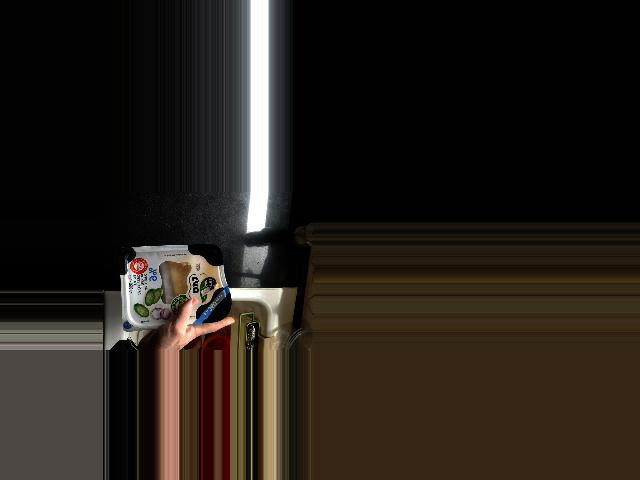cheese: (123, 245, 231, 330)
